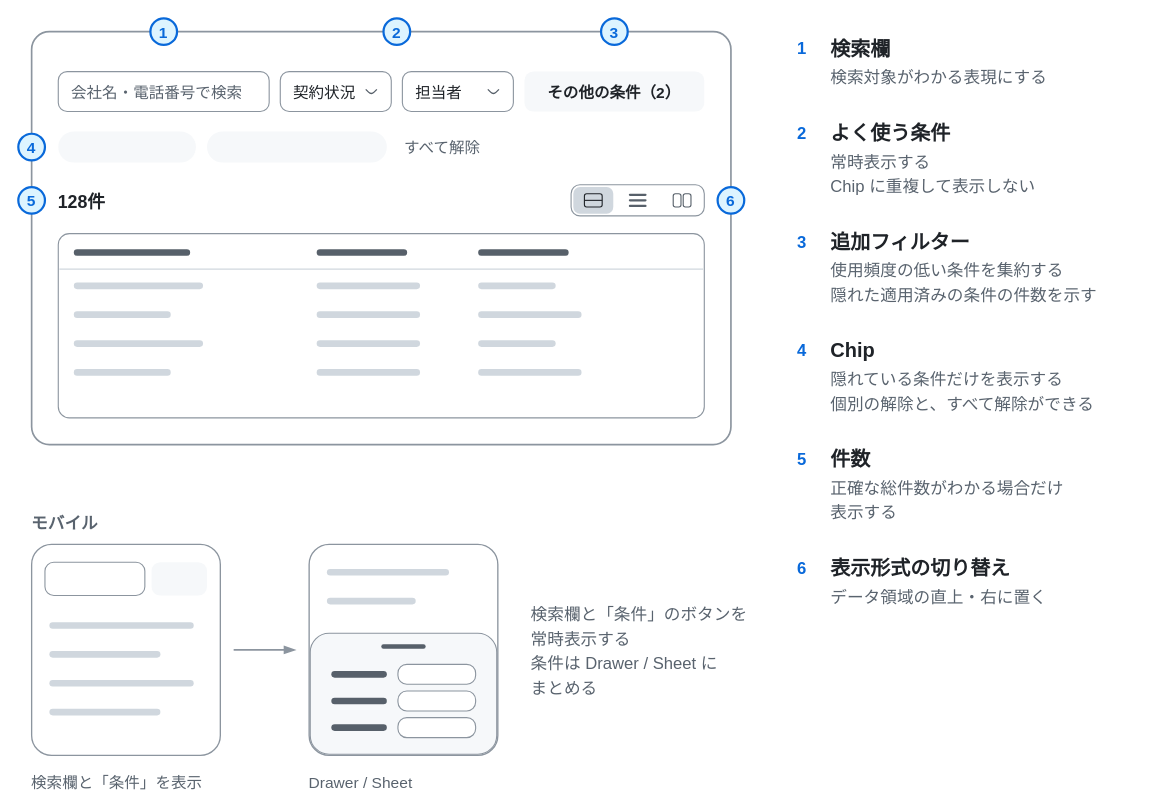
This 1149x809 diagram has some shape labels left out. Here are the shapes that lost their labels. From the top down, the box of each, then its label:
(58, 131, 195, 162): 地域：関東 ×
(206, 131, 386, 162): 月額：10万円以上 ×
(44, 561, 145, 596): 検索
(151, 562, 206, 595): 条件
